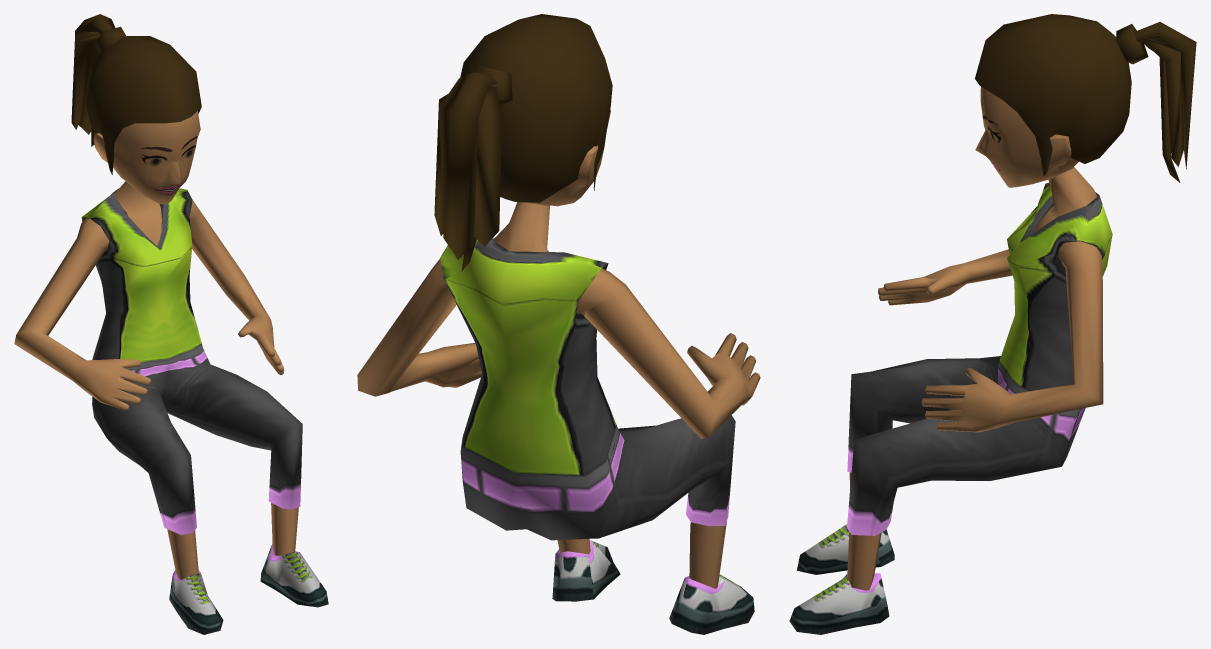
The model's file is Sitting Female 2.glb.
3 views of the same model, side by side, from view 1: azimuth 30°, elevation 25°; view 2: azimuth 150°, elevation 25°; view 3: azimuth 270°, elevation 25° (orthographic). The views are drawn at different scales.
Visible parts, largest first — view 1: F2_cloths.3, F2_body.2, F2_hair.4; view 2: F2_cloths.3, F2_hair.4, F2_body.2; view 3: F2_cloths.3, F2_body.2, F2_hair.4.
Boxes of the visible parts, left/top/right/bottom form: F2_cloths.3: left=81, top=188, right=328, bottom=634; F2_body.2: left=14, top=111, right=298, bottom=579; F2_hair.4: left=71, top=14, right=201, bottom=174; F2_cloths.3: left=440, top=238, right=754, bottom=634; F2_hair.4: left=434, top=14, right=612, bottom=271; F2_body.2: left=357, top=109, right=760, bottom=588; F2_cloths.3: left=789, top=182, right=1112, bottom=634; F2_body.2: left=847, top=87, right=1103, bottom=590; F2_hair.4: left=975, top=14, right=1196, bottom=182.
Size of the model in its own units: 0.5566 by 1.09 by 0.6986.
3 materials, 3 textured.
